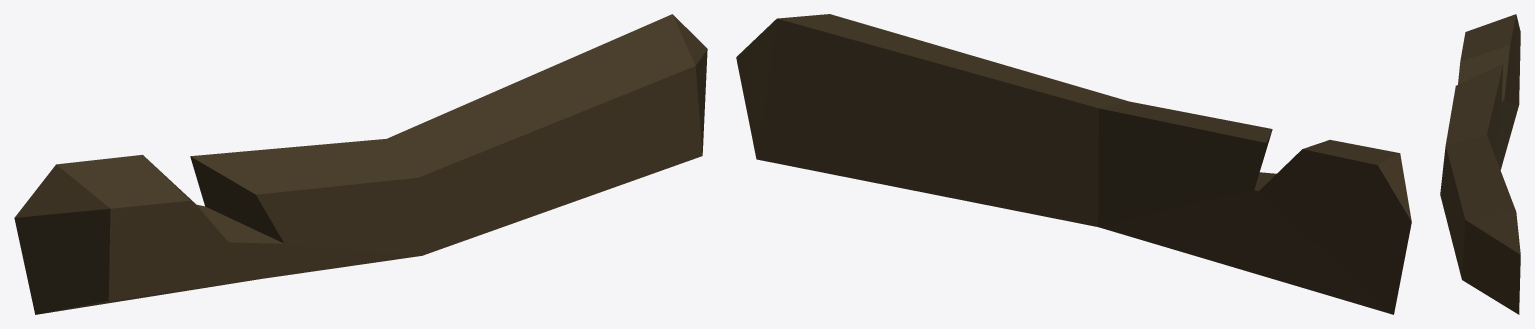
The model's file is Chr_Eyebrow_Male_10_Static.fbx.
3 renders of one model, left to right at view 1: azimuth 30°, elevation 25°; view 2: azimuth 150°, elevation 25°; view 3: azimuth 270°, elevation 25°, orthographic. The views are drawn at different scales.
Parts seen in each view (by area): view 1: Chr_Eyebrow_Male_10_Static; view 2: Chr_Eyebrow_Male_10_Static; view 3: Chr_Eyebrow_Male_10_Static.
Part boxes in pixels (x1,y1,x2,y2): Chr_Eyebrow_Male_10_Static: [14, 14, 707, 314]; Chr_Eyebrow_Male_10_Static: [736, 14, 1411, 314]; Chr_Eyebrow_Male_10_Static: [1440, 14, 1520, 314].
Size of the model in its own units: 0.2187 by 0.0465 by 0.0335.
